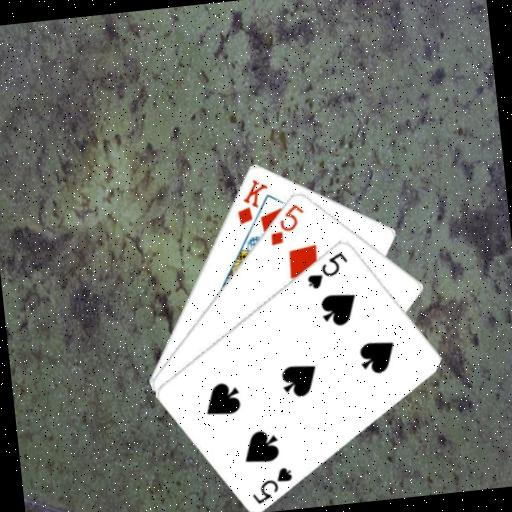5D: (264, 200, 309, 248)
5S: (246, 462, 297, 506), (302, 248, 352, 292)
KD: (231, 175, 273, 227)
